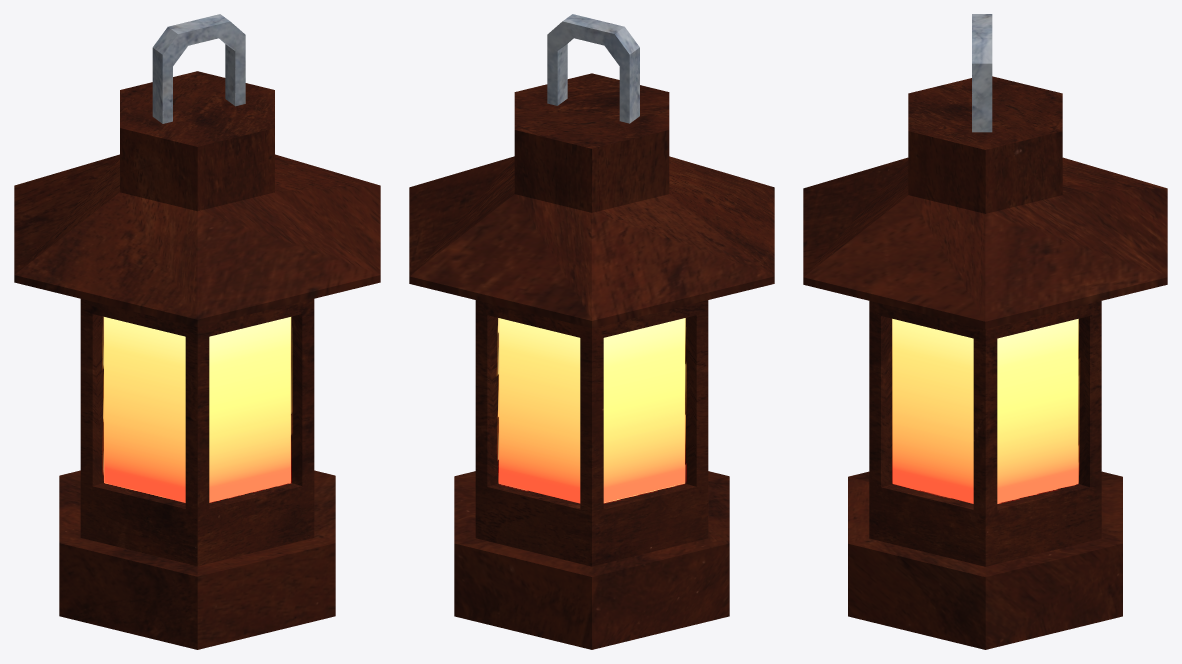
File: LanternaJmadeira.fbx
3 views of the same model, side by side, from view 1: azimuth 30°, elevation 25°; view 2: azimuth 150°, elevation 25°; view 3: azimuth 270°, elevation 25° (orthographic).
Visible parts, largest first — view 1: lamparinaJaponesa; view 2: lamparinaJaponesa; view 3: lamparinaJaponesa.
Part boxes in pixels (box(x1,y1,x2,y2)): lamparinaJaponesa: box(14, 14, 380, 649); lamparinaJaponesa: box(409, 14, 774, 649); lamparinaJaponesa: box(803, 14, 1167, 649).
Size of the model in its own units: 42.8 by 62.47 by 37.07.
